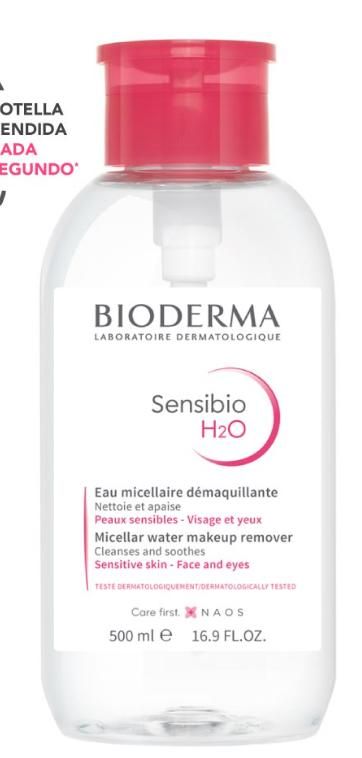brand: (91, 299, 287, 332)
net_weight: (101, 629, 156, 649)
product_name: (140, 383, 260, 439)
